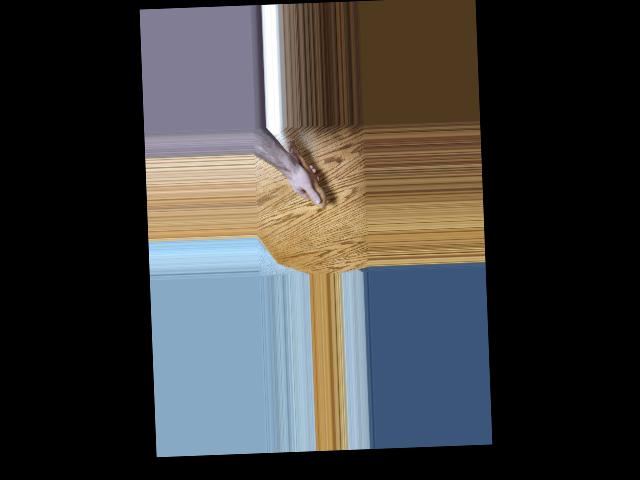sweet_potato: (285, 134, 328, 210)
